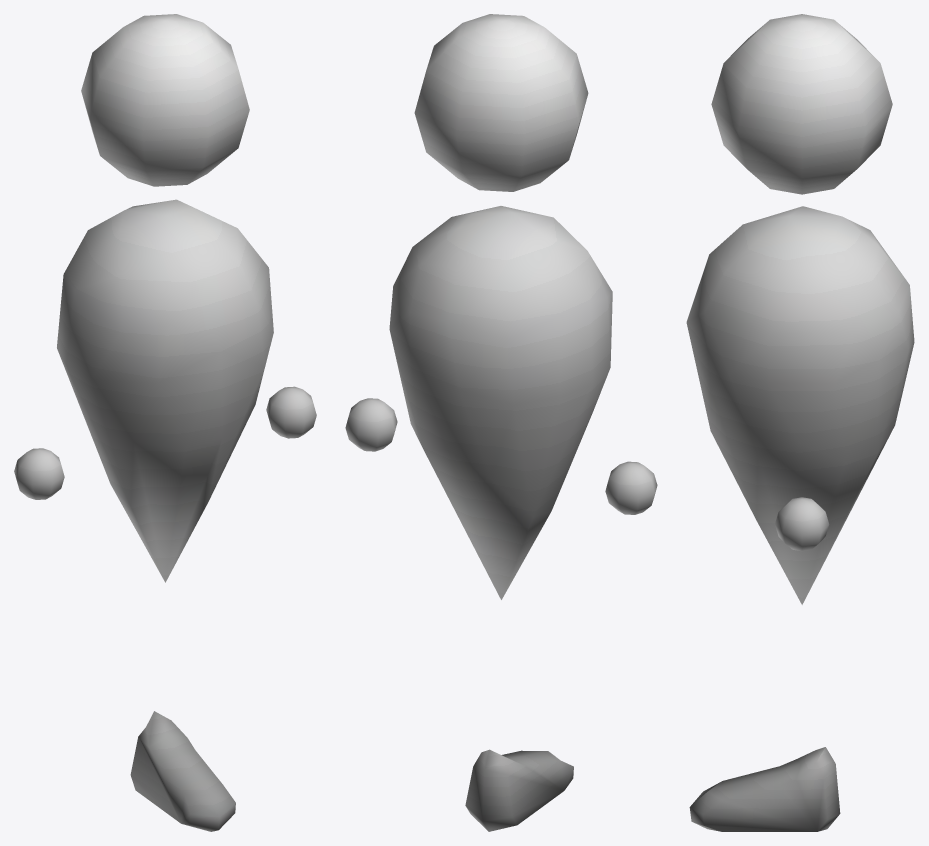
File: Humanoid_Model.fbx
3 renders of one model, left to right at view 1: azimuth 30°, elevation 25°; view 2: azimuth 150°, elevation 25°; view 3: azimuth 270°, elevation 25°, orthographic. The views are drawn at different scales.
Parts seen in each view (by area): view 1: Body, Head, Foot, Hand.Right, Hand.Left; view 2: Body, Head, Foot, Hand.Left, Hand.Right; view 3: Body, Head, Foot, Hand.Left.
Boxes of the visible parts, box(x1,y1,x2,y2) form: Body: box(57, 199, 273, 582); Head: box(81, 14, 249, 186); Foot: box(130, 711, 235, 831); Hand.Right: box(14, 448, 64, 499); Hand.Left: box(266, 386, 316, 438); Body: box(389, 206, 612, 599); Head: box(414, 14, 588, 191); Foot: box(465, 749, 573, 831); Hand.Left: box(345, 398, 397, 451); Hand.Right: box(605, 461, 657, 514); Body: box(686, 206, 914, 604); Head: box(711, 14, 892, 194); Foot: box(689, 747, 840, 831); Hand.Left: box(775, 497, 829, 551).
Bounding box in the file's own units: 0.59 × 1.47 × 0.3772.
